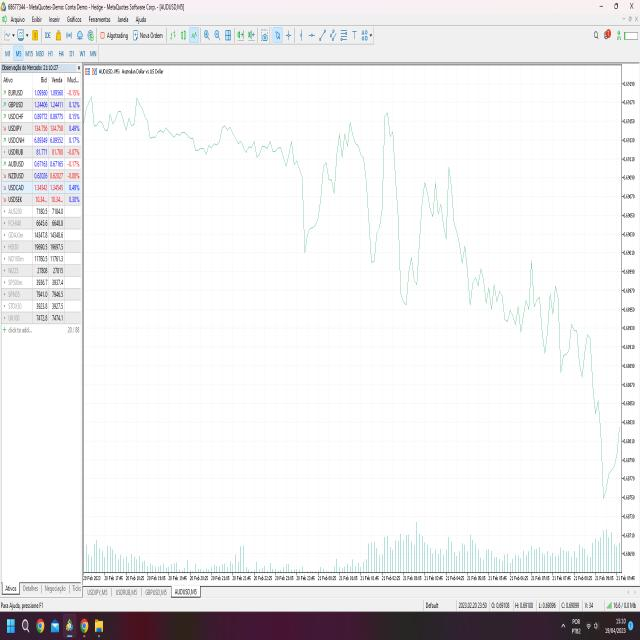oco: (521, 247, 542, 343)
